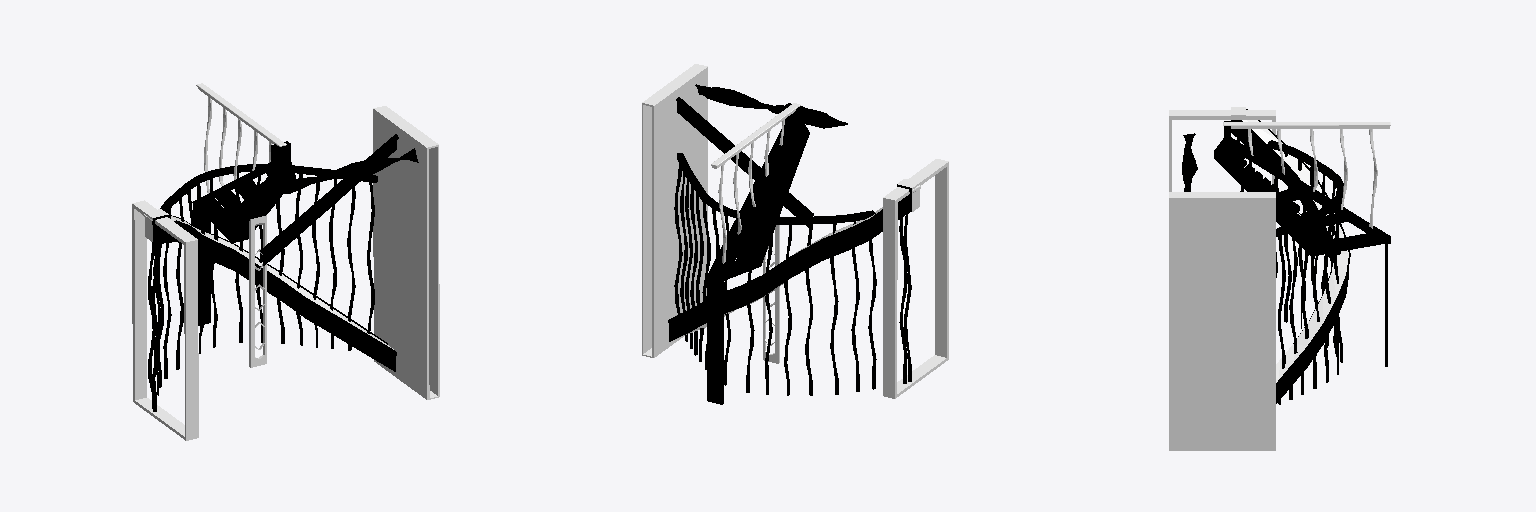
The model's file is find-the-controller.obj.
3 renders of one model, left to right at view 1: azimuth 30°, elevation 25°; view 2: azimuth 150°, elevation 25°; view 3: azimuth 270°, elevation 25°, orthographic.
Parts seen in each view (by area): view 1: group1 pCube1, group1 pCube3, group1 pCube13, pCube5 group1, group1 pCube6, pCube7, group1 pCube4, pCube32, pCube8, pCube40, pCube11; view 2: group1 pCube1, group1 pCube3, group1 pCube13, pCube5 group1, pCube8, pCube32, group1 pCube6, group1 pCube4, pCube7, pCube40, pCube10, pCube11; view 3: group1 pCube1, group1 pCube13, pCube5 group1, pCube32, group1 pCube3, pCube40, group1 pCube4.
Part boxes in pixels (bbox=[...]): group1 pCube1: bbox=[373, 106, 439, 399]; group1 pCube3: bbox=[132, 200, 198, 440]; group1 pCube13: bbox=[143, 209, 396, 371]; pCube5 group1: bbox=[192, 141, 295, 243]; group1 pCube6: bbox=[260, 134, 398, 265]; pCube7: bbox=[249, 215, 266, 367]; group1 pCube4: bbox=[272, 148, 418, 194]; pCube32: bbox=[160, 164, 377, 212]; pCube8: bbox=[193, 203, 210, 325]; pCube40: bbox=[196, 83, 286, 146]; pCube11: bbox=[152, 239, 159, 411]; group1 pCube1: bbox=[642, 64, 707, 357]; group1 pCube3: bbox=[883, 159, 948, 398]; group1 pCube13: bbox=[668, 179, 920, 341]; pCube5 group1: bbox=[706, 103, 809, 282]; pCube8: bbox=[707, 280, 723, 404]; pCube32: bbox=[677, 153, 875, 224]; group1 pCube6: bbox=[676, 97, 813, 227]; group1 pCube4: bbox=[695, 84, 847, 128]; pCube7: bbox=[763, 225, 779, 363]; pCube40: bbox=[711, 103, 800, 168]; pCube10: bbox=[899, 218, 907, 383]; pCube11: bbox=[904, 213, 911, 381]; group1 pCube1: bbox=[1169, 192, 1275, 450]; group1 pCube13: bbox=[1231, 107, 1350, 403]; pCube5 group1: bbox=[1214, 121, 1390, 256]; pCube32: bbox=[1268, 140, 1343, 236]; group1 pCube3: bbox=[1169, 110, 1275, 191]; pCube40: bbox=[1223, 122, 1390, 128]; group1 pCube4: bbox=[1182, 133, 1197, 191].
Size of the model in its own units: 9.67 by 9.52 by 7.24.